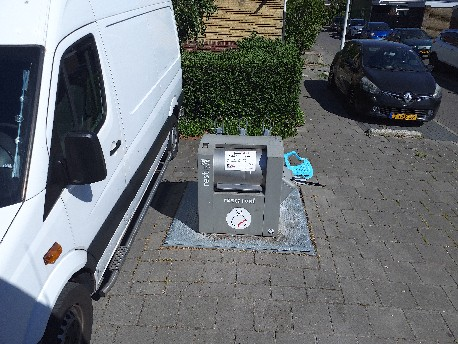Container: (197, 138, 287, 240)
Rest: (292, 150, 328, 190)
Voertuig: (5, 1, 185, 338), (340, 42, 420, 132), (406, 24, 455, 90), (356, 15, 403, 50)
